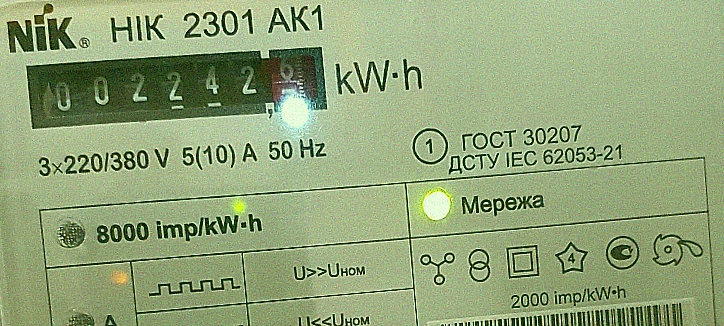0: (51, 78, 74, 113), (89, 73, 111, 107)
2: (127, 69, 149, 103), (164, 67, 184, 102), (238, 63, 257, 96)
4: (202, 62, 220, 96)
6: (277, 54, 295, 82)
screen: (14, 28, 338, 145)
